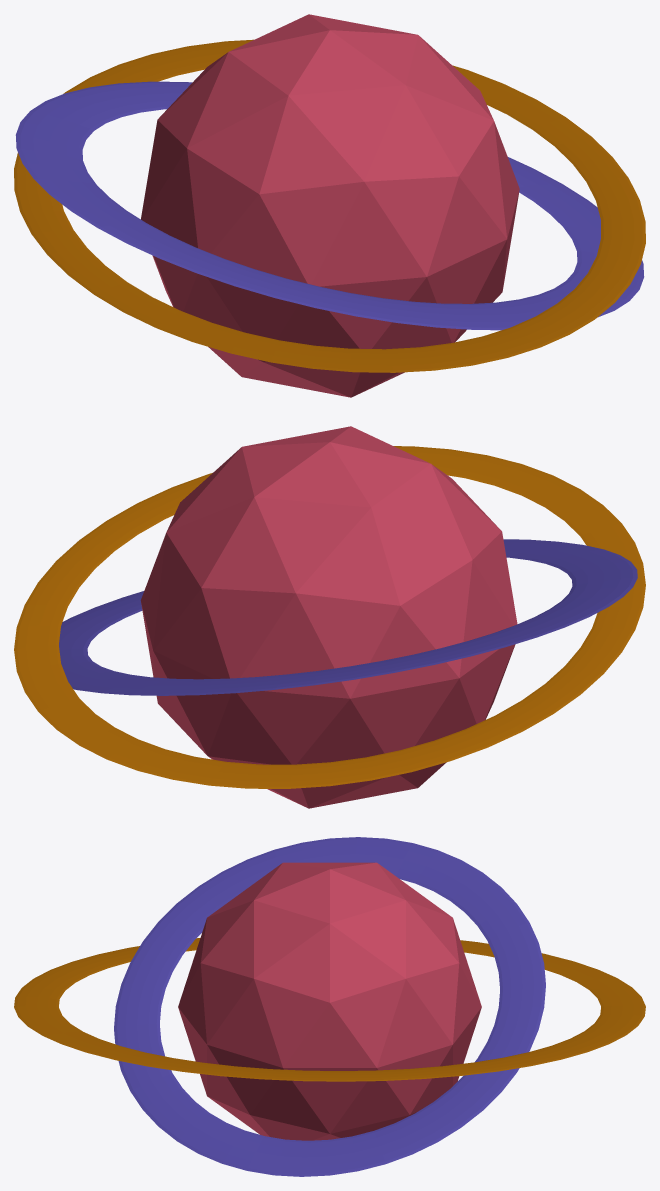
The model's file is RingPlanet.fbx.
The picture shows the model from 3 angles, top to bottom: view 1: azimuth 30°, elevation 25°; view 2: azimuth 150°, elevation 25°; view 3: azimuth 270°, elevation 25°; orthographic projection. The views are drawn at different scales.
Parts seen in each view (by area): view 1: Icosphere, Torus.004, Torus.002; view 2: Icosphere, Torus.004, Torus.002; view 3: Icosphere, Torus.002, Torus.004.
Boxes of the visible parts, x1,y1,x2,y2 form: Icosphere: (141, 14, 519, 397); Torus.004: (14, 39, 645, 372); Torus.002: (15, 81, 644, 330); Icosphere: (140, 426, 517, 808); Torus.004: (14, 446, 645, 788); Torus.002: (59, 539, 637, 695); Icosphere: (178, 862, 481, 1140); Torus.002: (114, 837, 545, 1176); Torus.004: (14, 938, 645, 1081).
Size of the model in its own units: 619 by 372 by 774.
